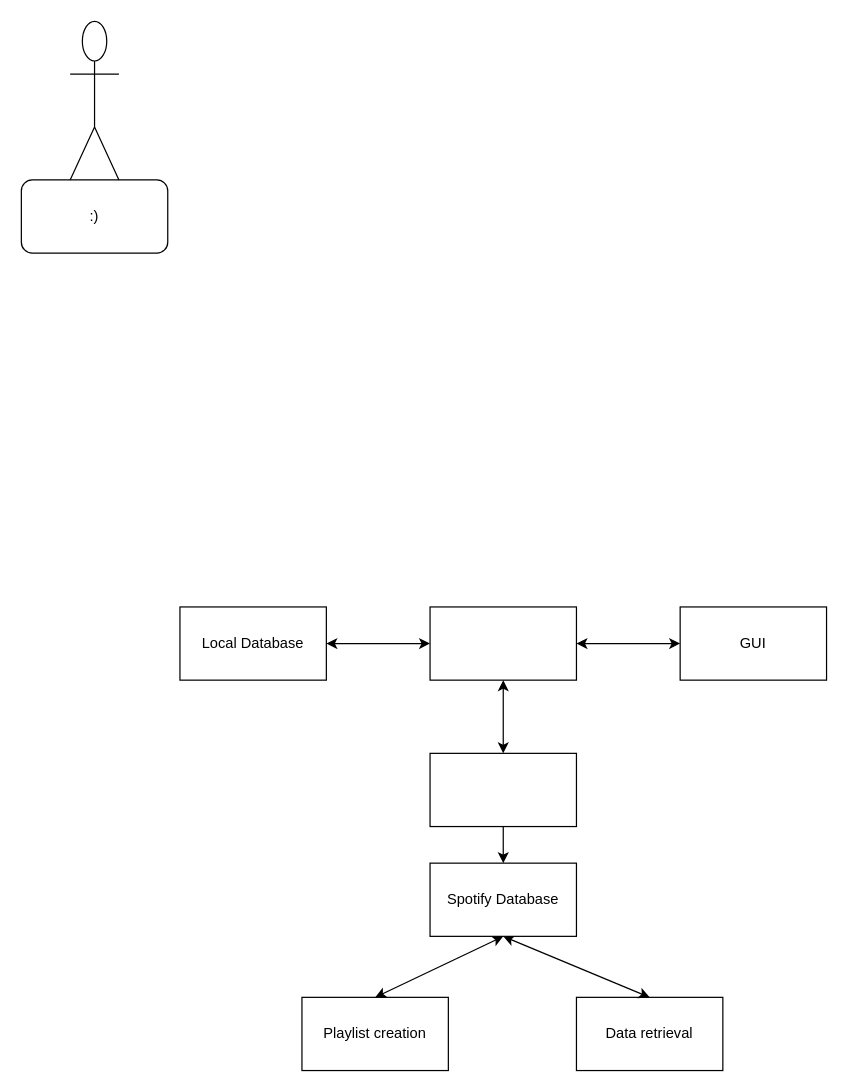
This 848x1092 diagram has some shape labels left out. Here are the shapes that lost their labels. From the top down, the centre of each, then its label:
At (x=94, y=100): "Actor".
At (x=502, y=643): "Moodipy Project".
At (x=502, y=789): "Spotify API".
